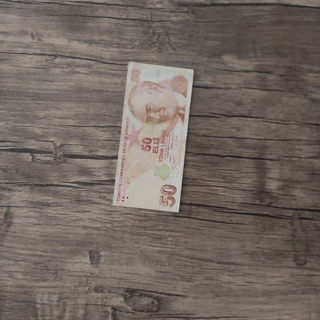50TLFront: (112, 60, 195, 213)
